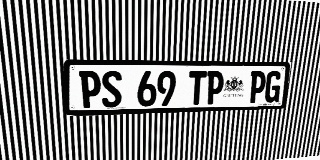6: (137, 71, 157, 107)
9: (157, 71, 176, 106)
G: (264, 71, 282, 103)
P: (79, 71, 101, 108), (205, 71, 224, 105), (248, 71, 267, 103)
S: (101, 71, 122, 108)
T: (188, 71, 207, 105)
